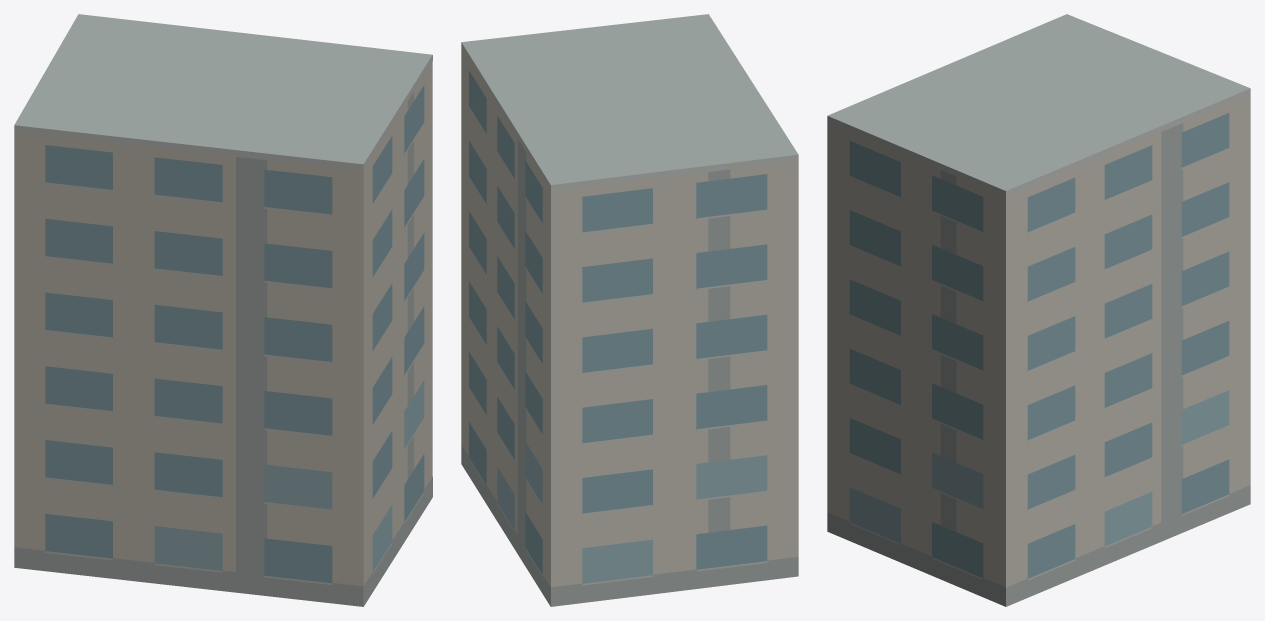
The model's file is survey-upis-32881753.glb.
The picture shows the model from 3 angles, left to right: view 1: azimuth 30°, elevation 25°; view 2: azimuth 150°, elevation 25°; view 3: azimuth 270°, elevation 25°; orthographic projection. The views are drawn at different scales.
Parts seen in each view (by area): view 1: survey-upis-32881753.tmp; view 2: survey-upis-32881753.tmp; view 3: survey-upis-32881753.tmp.
Boxes of the visible parts, <box> form: survey-upis-32881753.tmp: <box>14,14,432,606</box>; survey-upis-32881753.tmp: <box>461,14,798,606</box>; survey-upis-32881753.tmp: <box>827,14,1250,606</box>.
Bounding box in the file's own units: 14.8 × 16.2 × 14.96.
